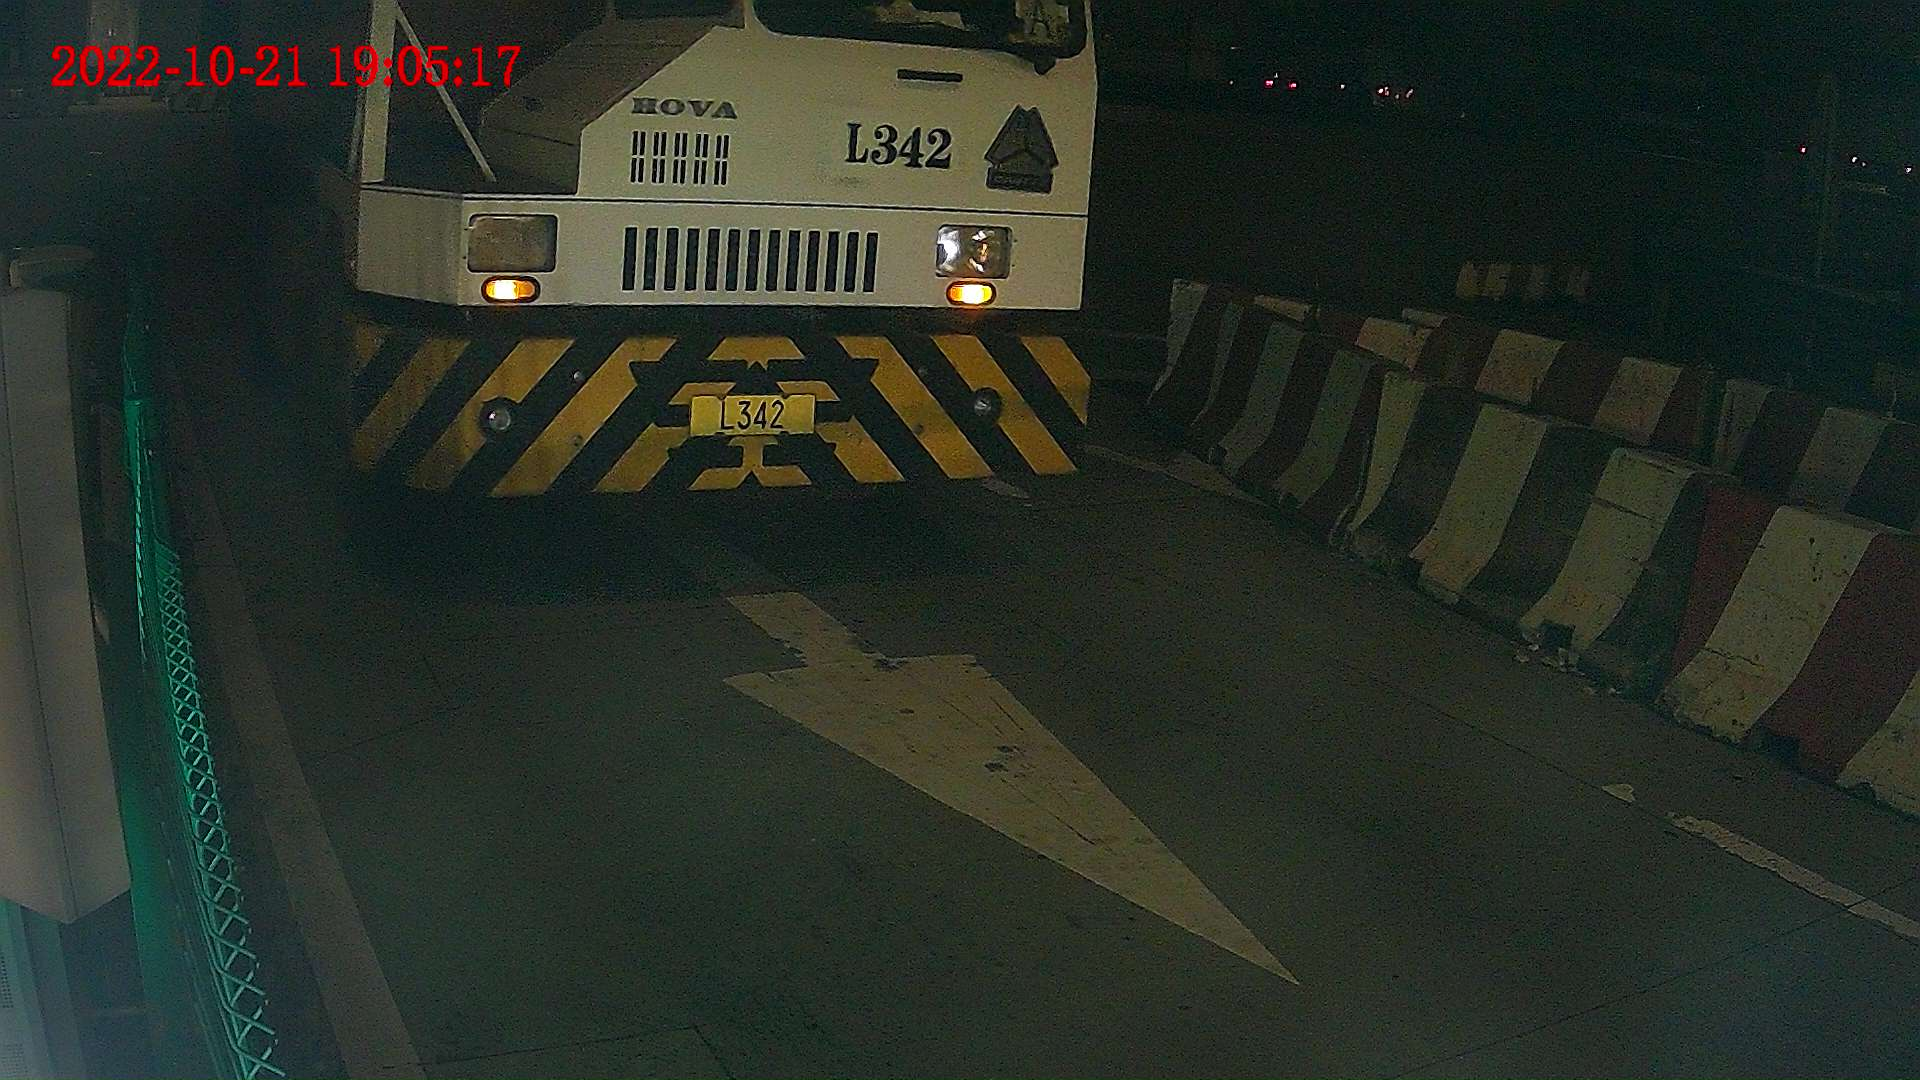head: (356, 1, 1091, 522)
plate: (688, 394, 812, 430)
